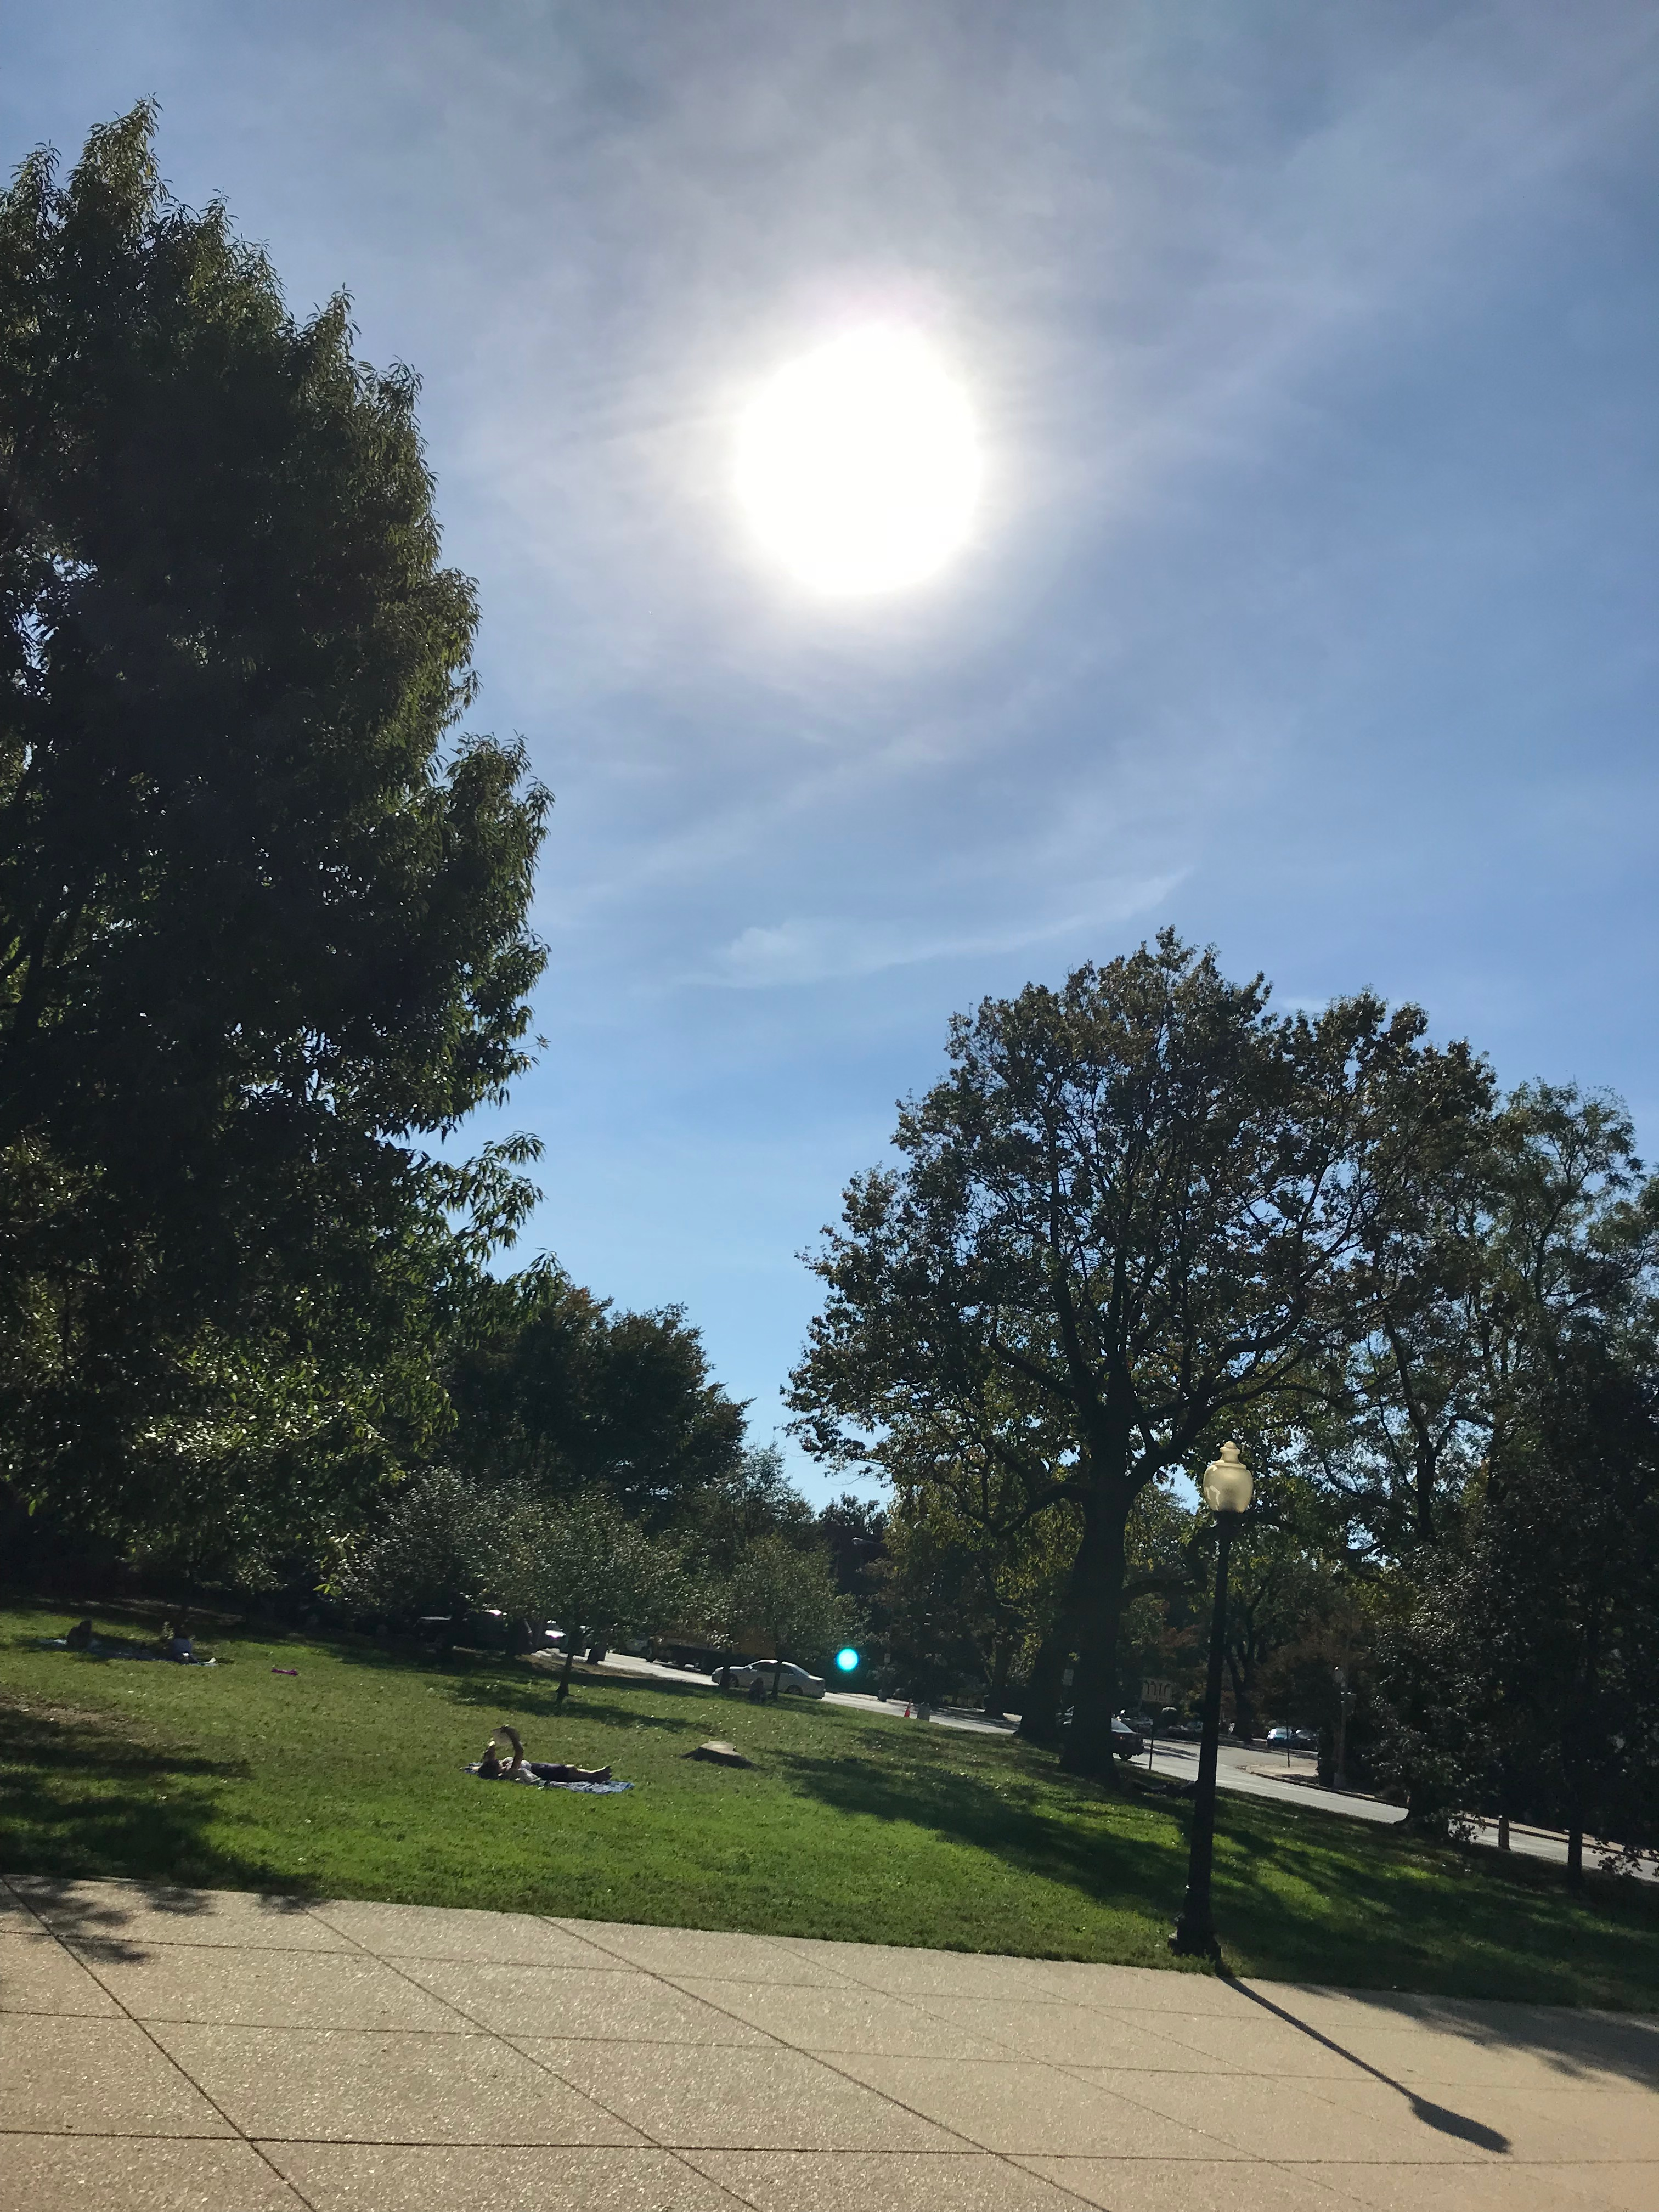flare: (835, 1648, 861, 1674)
